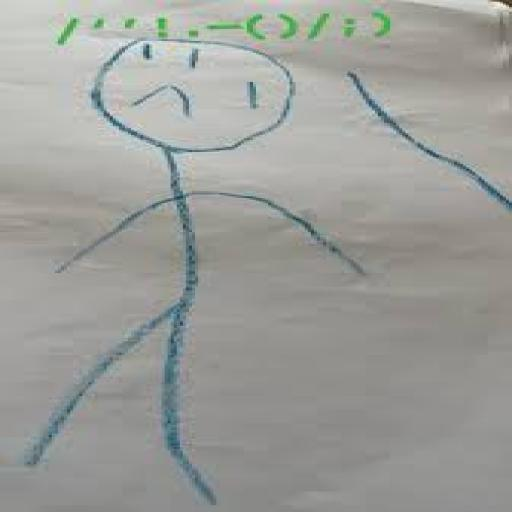person: (14, 30, 370, 506)
